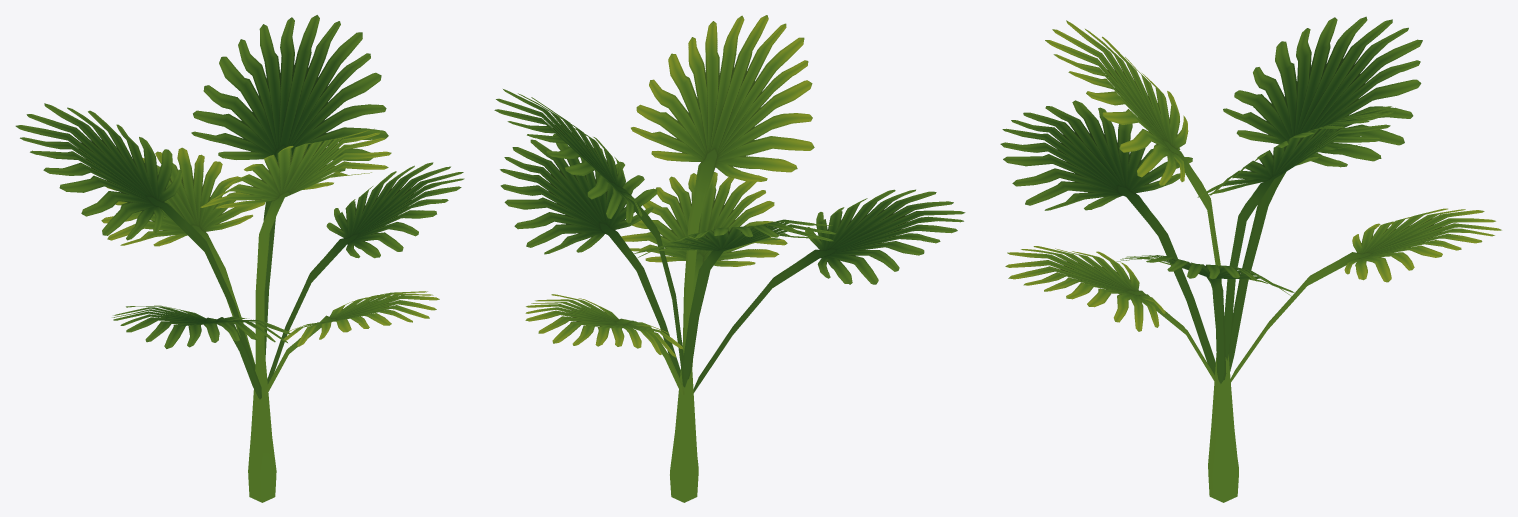
The model's file is SM_Env_Tree_Palm_Sapling_01.fbx.
3 views of the same model, side by side, from view 1: azimuth 30°, elevation 25°; view 2: azimuth 150°, elevation 25°; view 3: azimuth 270°, elevation 25° (orthographic). The views are drawn at different scales.
Parts seen in each view (by area): view 1: SM_Env_Tree_Palm_Sapling_01_LOD0; view 2: SM_Env_Tree_Palm_Sapling_01_LOD0; view 3: SM_Env_Tree_Palm_Sapling_01_LOD0.
Part boxes in pixels (bbox=[...]): SM_Env_Tree_Palm_Sapling_01_LOD0: bbox=[15, 15, 464, 502]; SM_Env_Tree_Palm_Sapling_01_LOD0: bbox=[494, 15, 965, 502]; SM_Env_Tree_Palm_Sapling_01_LOD0: bbox=[1000, 16, 1501, 502].
Size of what is drawn, in the model's own units: 154 by 159 by 159.
